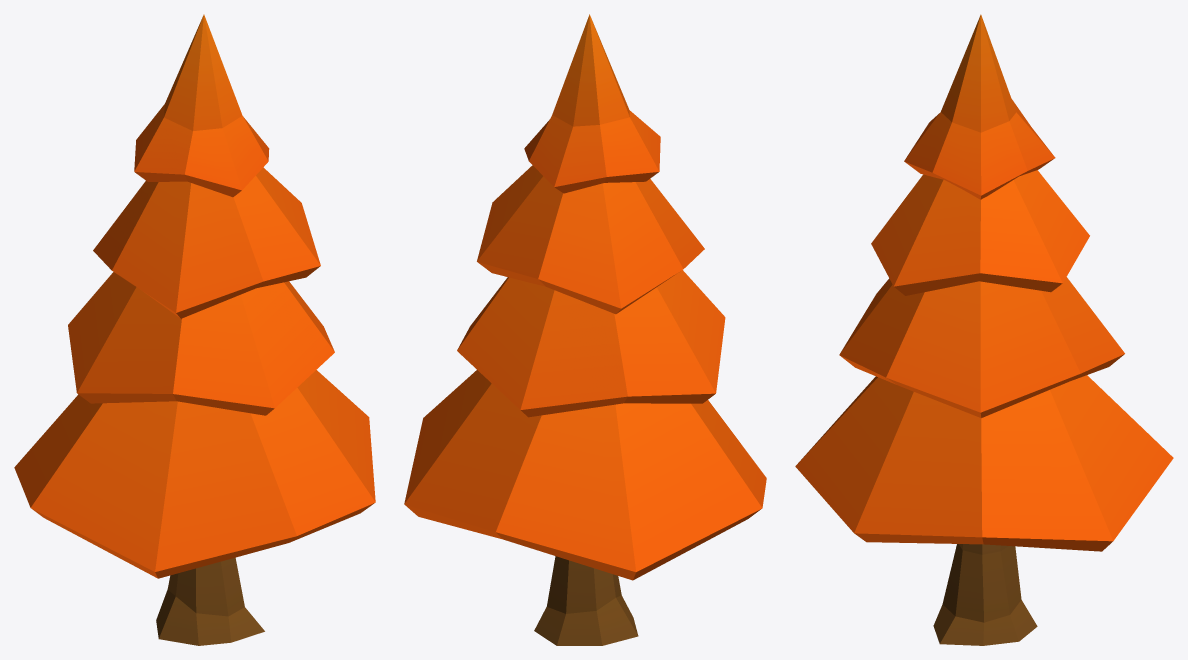
The model's file is Arbol_Hojas_naranja.fbx.
3 views of the same model, side by side, from view 1: azimuth 30°, elevation 25°; view 2: azimuth 150°, elevation 25°; view 3: azimuth 270°, elevation 25° (orthographic).
Parts seen in each view (by area): view 1: Tree_Spruce_small_01; view 2: Tree_Spruce_small_01; view 3: Tree_Spruce_small_01.
Boxes of the visible parts, left/top/right/bottom form: Tree_Spruce_small_01: left=14, top=14, right=375, bottom=645; Tree_Spruce_small_01: left=404, top=14, right=766, bottom=645; Tree_Spruce_small_01: left=795, top=14, right=1173, bottom=645.
Bounding box in the file's own units: 1058 × 1826 × 1026.
